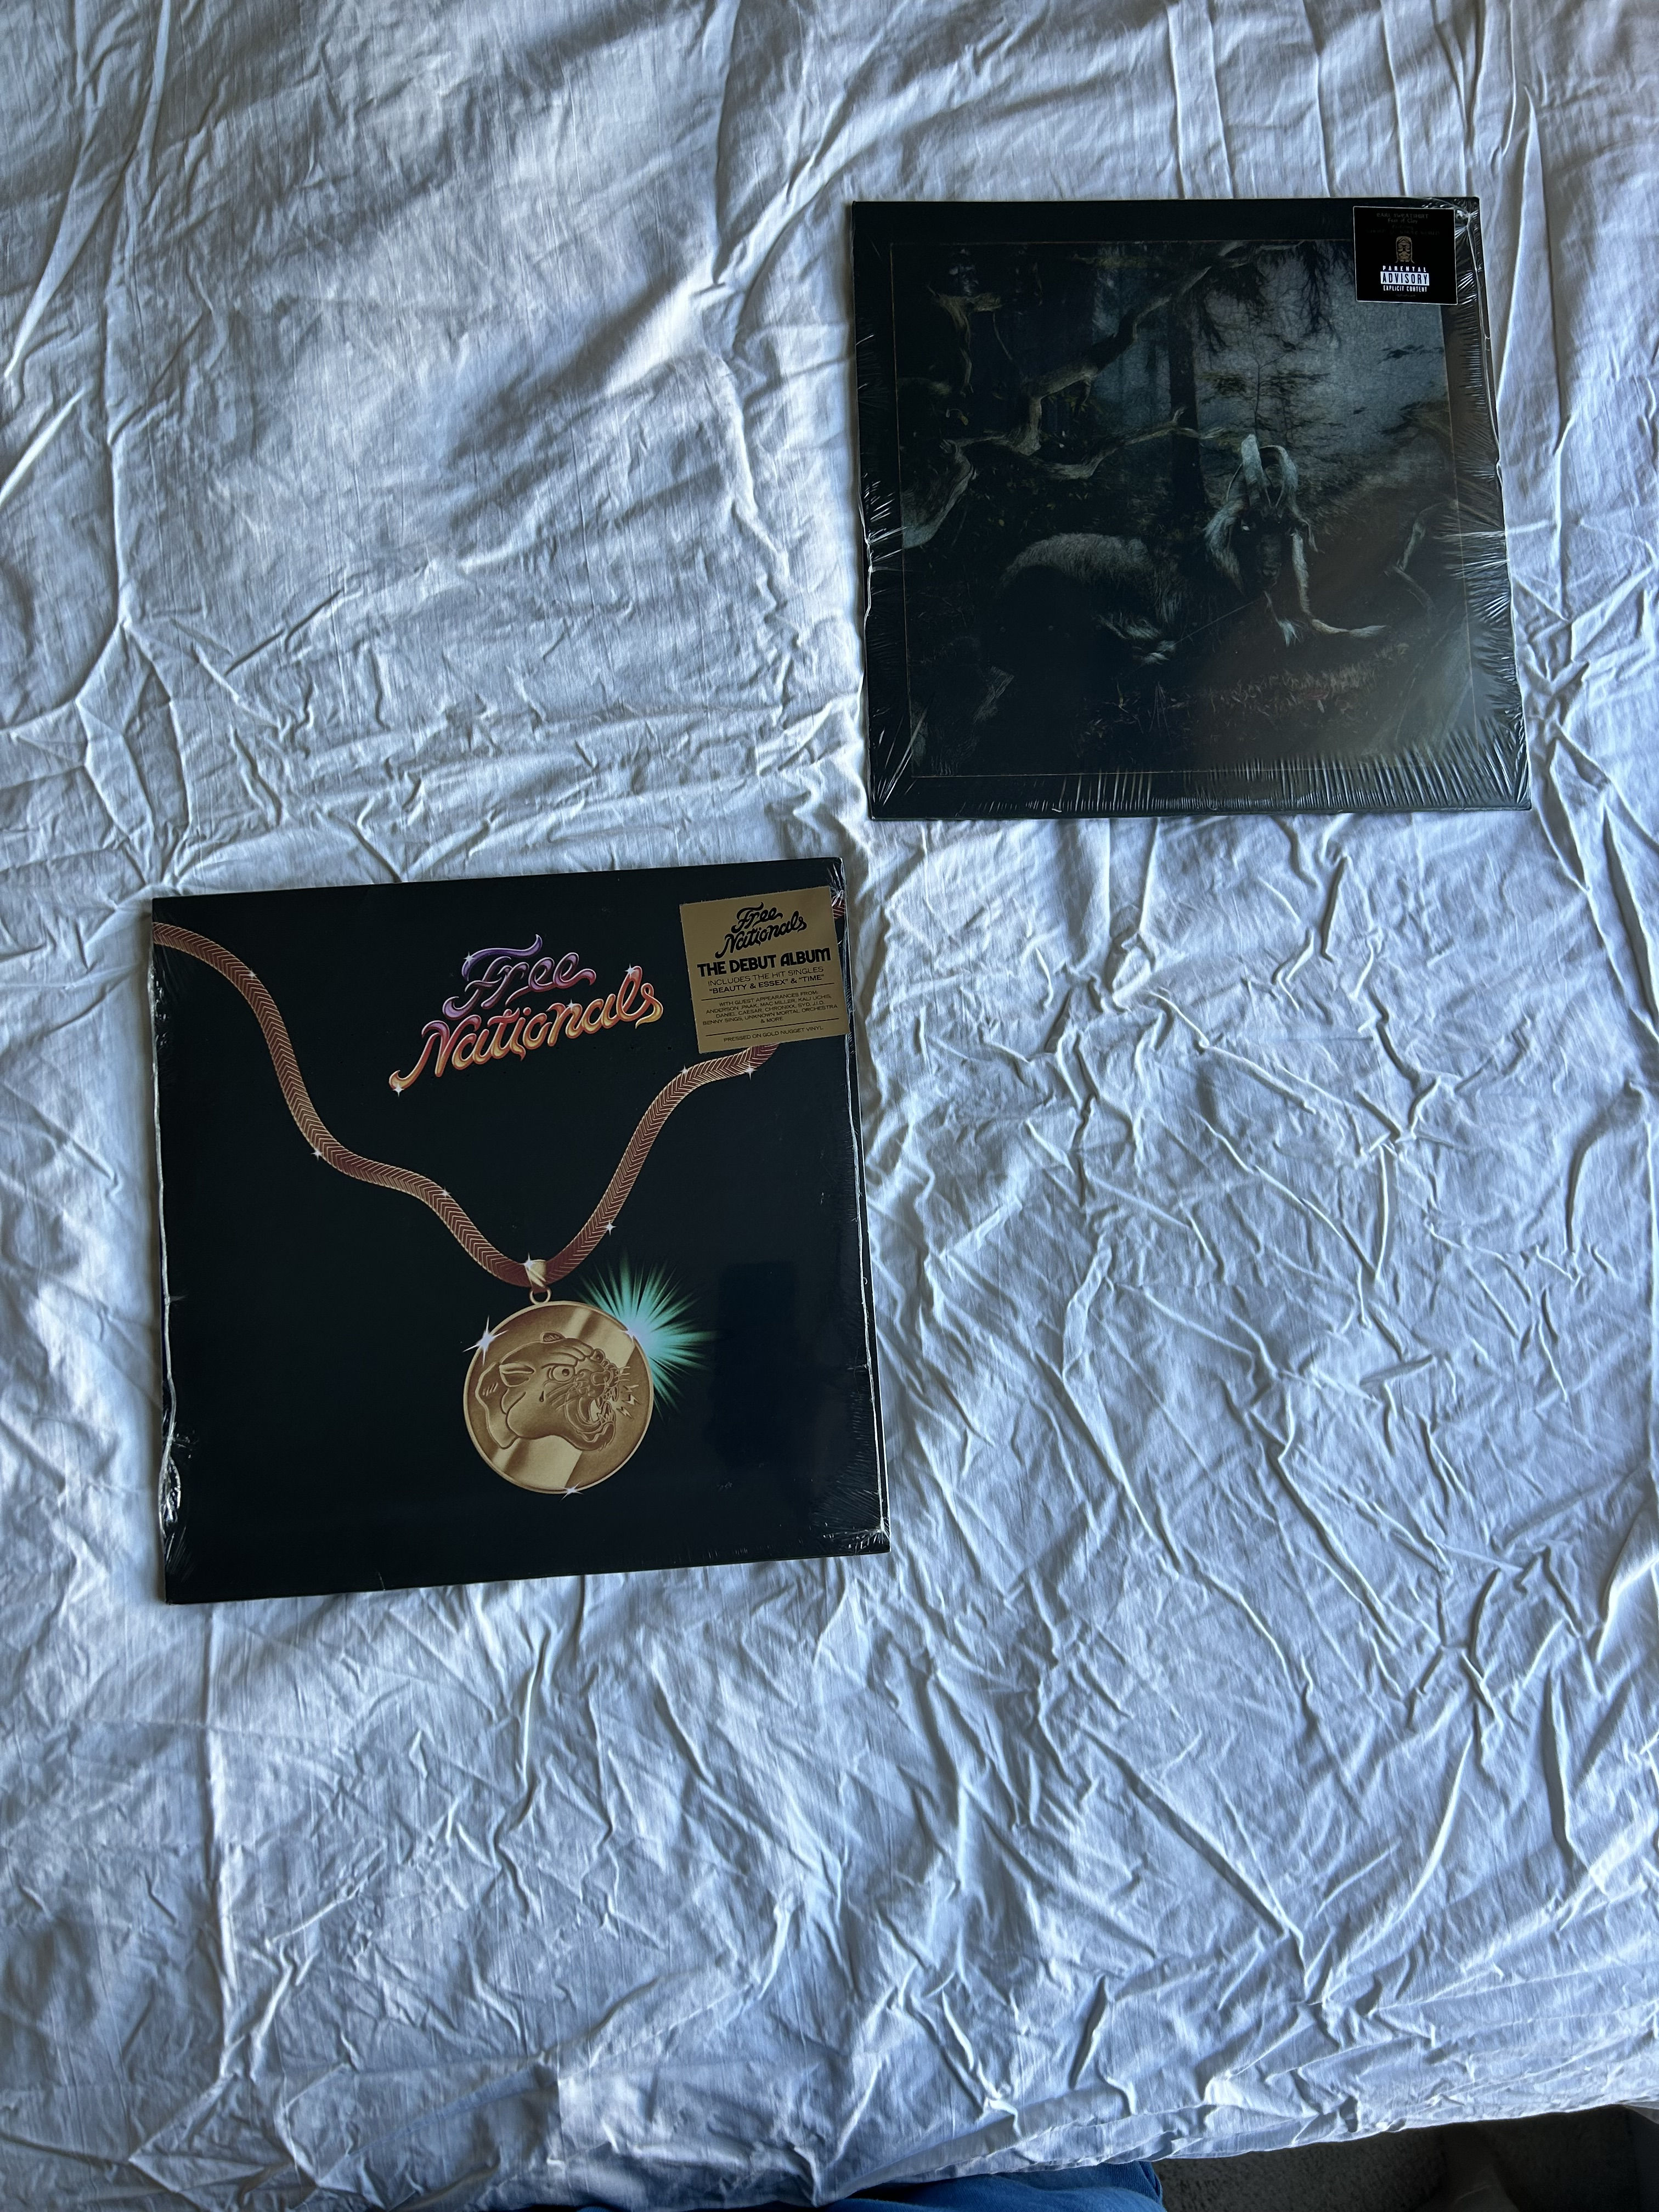earl sweatchirt_feet of clay: (843, 204, 1492, 834)
free nationals_free nationals: (134, 895, 854, 1594)
